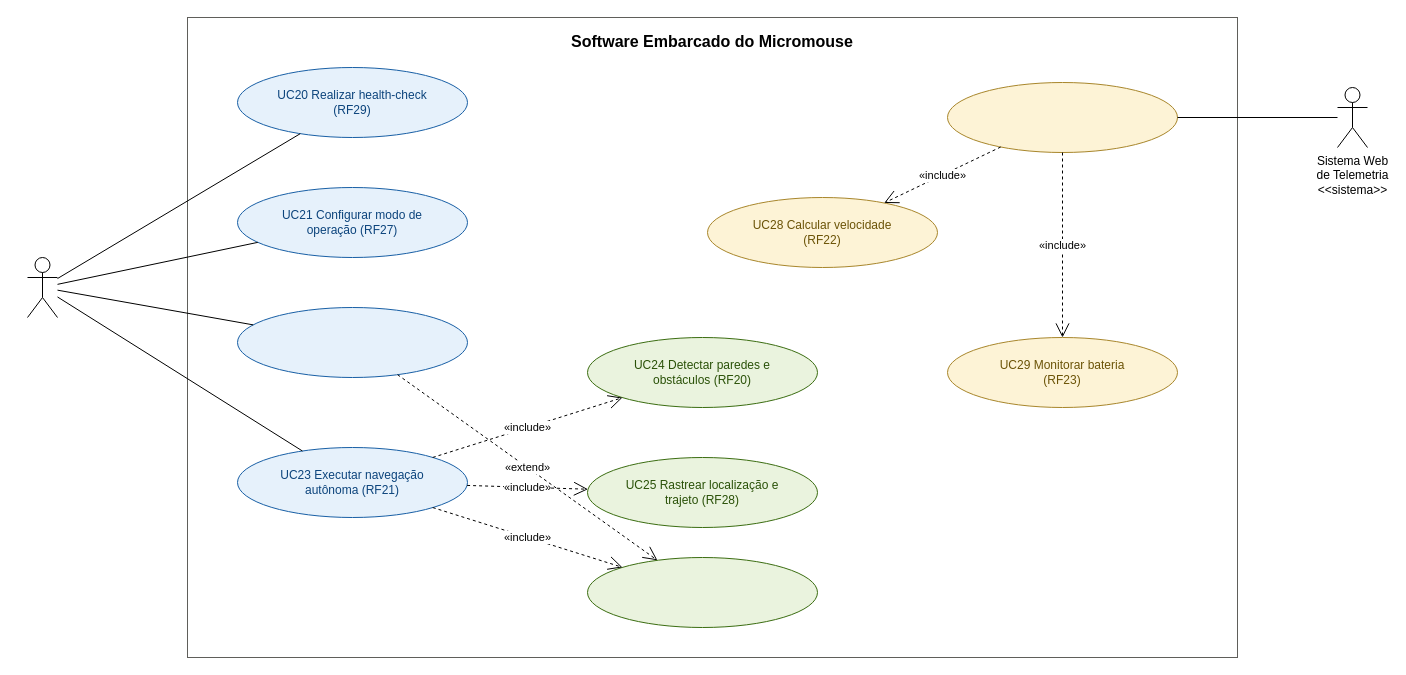
The diagram is 1406 pixels wide and 675 high, and some of its shapes have lost their labels. The centre of each missing label's shape, as x and y in pixels:
Operador: the point at 42,287
UC22 Sinalizar estado do robô (RF25): the point at 352,342
UC26 Detectar chegada ao objetivo (RF26): the point at 702,592
UC27 Transmitir telemetria (RF24): the point at 1062,117
